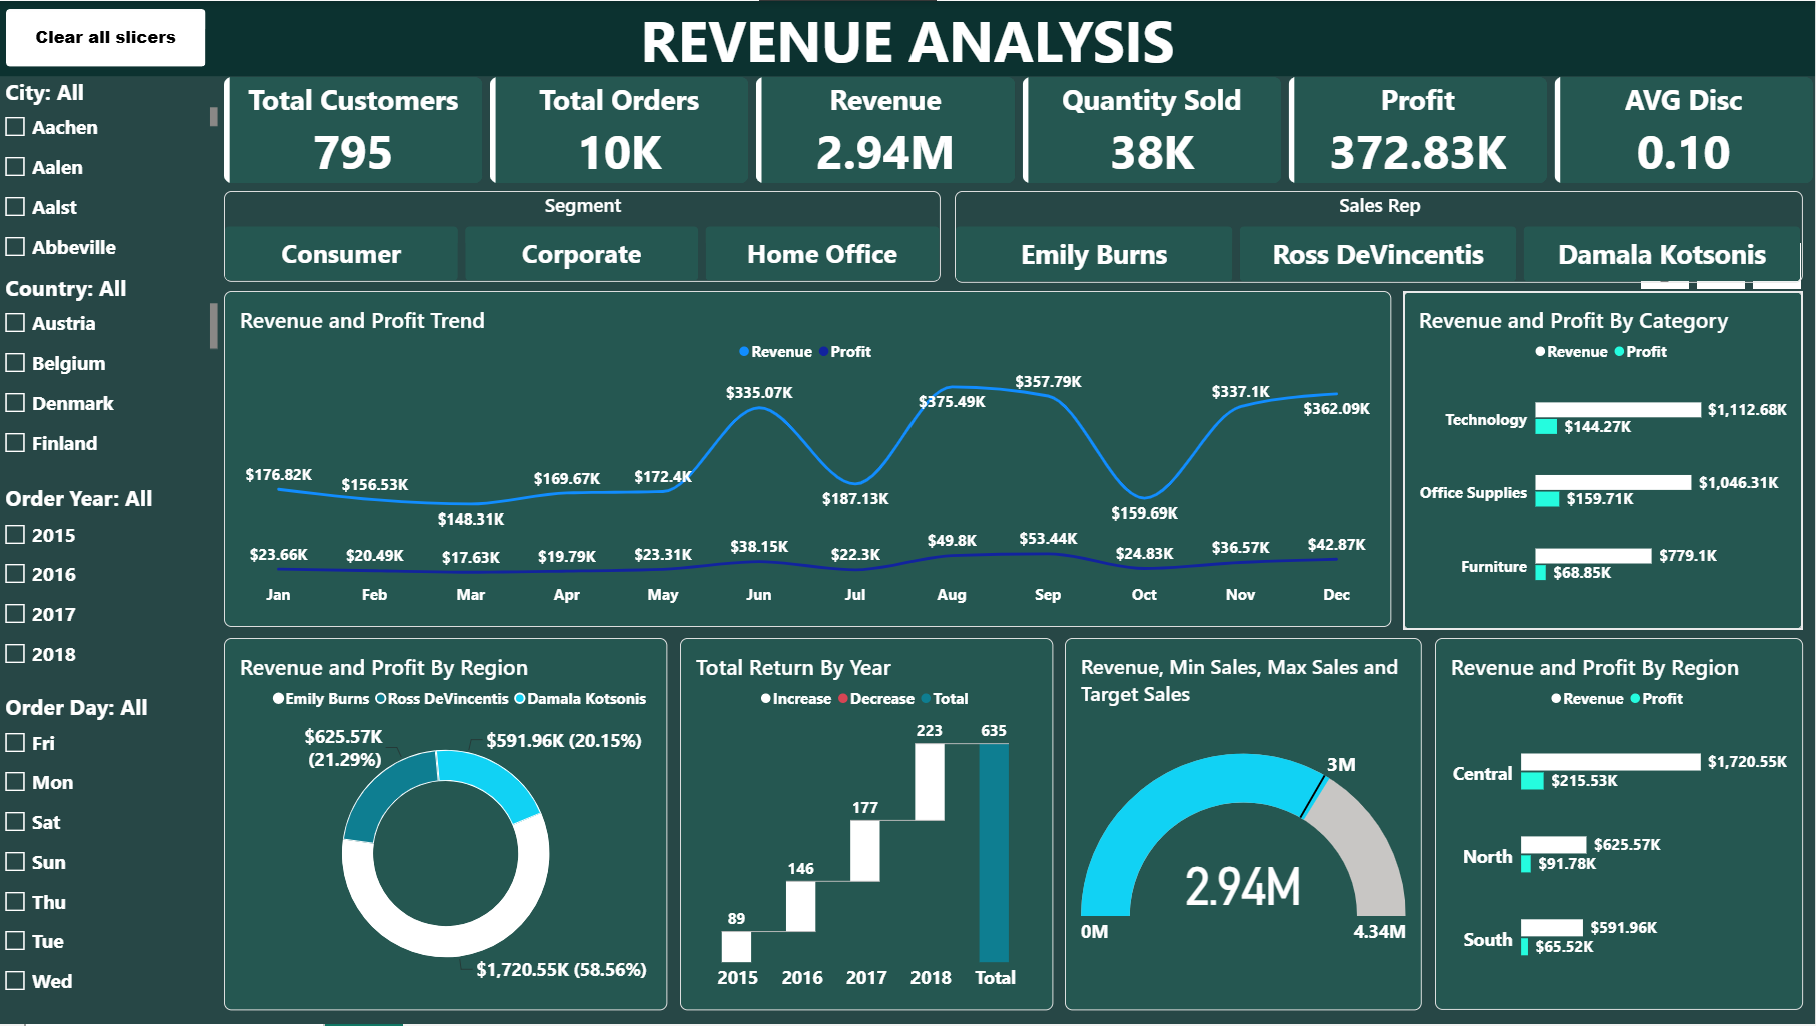

Layout of this report page (visuals, bound fields, positions):
{"tool":"powerbi","page":{"name":"Revenue Dashboard","canvas":[1920,1080],"ordinal":0},"visuals":[{"type":"shape","box":[0,0,1921,79.7],"z":0},{"type":"cardVisual","fields":{"Data":["KPI_Table.Total Customers","KPI_Table.Total Orders","KPI_Table.Revenue","KPI_Table.Quantity Sold","KPI_Table.Profit","KPI_Table.AVG Disc"]},"box":[239,79.7,1682.1,112.5],"z":1000},{"type":"lineChart","title":"Revenue and Profit Trend","fields":{"Y":["KPI_Table.Revenue","KPI_Table.Profit"],"Category":["master_table1.Order Month"]},"box":[239,306.9,1232.3,353.8],"z":2000},{"type":"clusteredBarChart","title":"Revenue and Profit By Category","fields":{"Category":["master_table1.Category"],"Y":["KPI_Table.Revenue","KPI_Table.Profit"]},"box":[1483.7,306.5,422.7,357.2],"z":3000},{"type":"clusteredBarChart","title":"Revenue and Profit By Region","fields":{"Y":["KPI_Table.Revenue","KPI_Table.Profit"],"Category":["master_table1.Region"]},"box":[1517.5,672.1,388.9,393.1],"z":4000},{"type":"donutChart","title":"Revenue and Profit By Region","fields":{"Y":["KPI_Table.Revenue"],"Category":["people.People"]},"box":[239,672.4,468.5,393.6],"z":5000},{"type":"waterfallChart","title":"Total Return By Year","fields":{"Category":["return_orders.Year"],"Y":["CountNonNull(return_orders.Return)"]},"box":[721.6,672.4,393.6,393.6],"z":6000},{"type":"gauge","fields":{"TargetValue":["KPI_Table.Target Sales"],"Y":["KPI_Table.Revenue"],"MaxValue":["KPI_Table.Max Sales"],"MinValue":["KPI_Table.Min Sales"]},"box":[1126.9,672.4,377.2,393.6],"z":7000},{"type":"slicer","fields":{"Values":["master_table1.Order Year"]},"box":[0,508.4,231.9,206.2],"z":8000},{"type":"slicer","fields":{"Values":["master_table1.Order Day"]},"box":[0,728.6,231.9,337.4],"z":9000},{"type":"cardVisual","fields":{"Data":["KPI_Table.Total Customers","KPI_Table.Total Orders","KPI_Table.Revenue","KPI_Table.Quantity Sold","KPI_Table.Profit","KPI_Table.AVG Disc"]},"box":[238.8,80.3,1680.2,112],"z":10000},{"type":"advancedSlicerVisual","title":"Segment","fields":{"Values":["master_table1.Segment"]},"box":[239,201.5,756.7,96.1],"z":11000},{"type":"advancedSlicerVisual","title":"Sales Rep","fields":{"Values":["people.People"]},"box":[1010.3,200.8,896.1,97.2],"z":12000},{"type":"slicer","fields":{"Values":["master_table1.Country"]},"box":[0,288.2,231.9,206.2],"z":12001},{"type":"slicer","fields":{"Values":["master_table1.City"]},"box":[0,79.7,231.9,192.1],"z":12002},{"type":"actionButton","box":[9.4,9.4,210.8,60.9],"z":12004}]}

Visuals, with their boxes in screenshot pixels (x1, y1, x2, y2), scaled from the page's 1920x1080 canvas onto the 1816x1026 screenshot:
shape: bbox=(0, 0, 1815, 76)
cardVisual - KPI_Table.Total Customers x KPI_Table.Total Orders: bbox=(226, 76, 1815, 183)
"Revenue and Profit Trend" lineChart: bbox=(226, 292, 1392, 628)
"Revenue and Profit By Category" clusteredBarChart: bbox=(1403, 291, 1803, 631)
"Revenue and Profit By Region" clusteredBarChart: bbox=(1435, 638, 1803, 1012)
"Revenue and Profit By Region" donutChart: bbox=(226, 639, 669, 1013)
"Total Return By Year" waterfallChart: bbox=(683, 639, 1055, 1013)
gauge - KPI_Table.Target Sales x KPI_Table.Revenue: bbox=(1066, 639, 1423, 1013)
slicer - master_table1.Order Year: bbox=(0, 483, 219, 679)
slicer - master_table1.Order Day: bbox=(0, 692, 219, 1013)
cardVisual - KPI_Table.Total Customers x KPI_Table.Total Orders: bbox=(226, 76, 1815, 183)
"Segment" advancedSlicerVisual: bbox=(226, 191, 942, 283)
"Sales Rep" advancedSlicerVisual: bbox=(956, 191, 1803, 283)
slicer - master_table1.Country: bbox=(0, 274, 219, 470)
slicer - master_table1.City: bbox=(0, 76, 219, 258)
actionButton: bbox=(9, 9, 208, 67)
